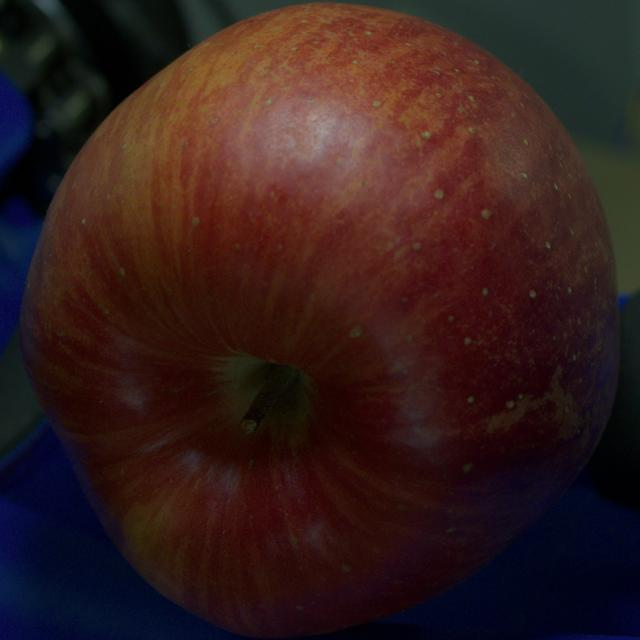apple: (20, 4, 619, 637)
